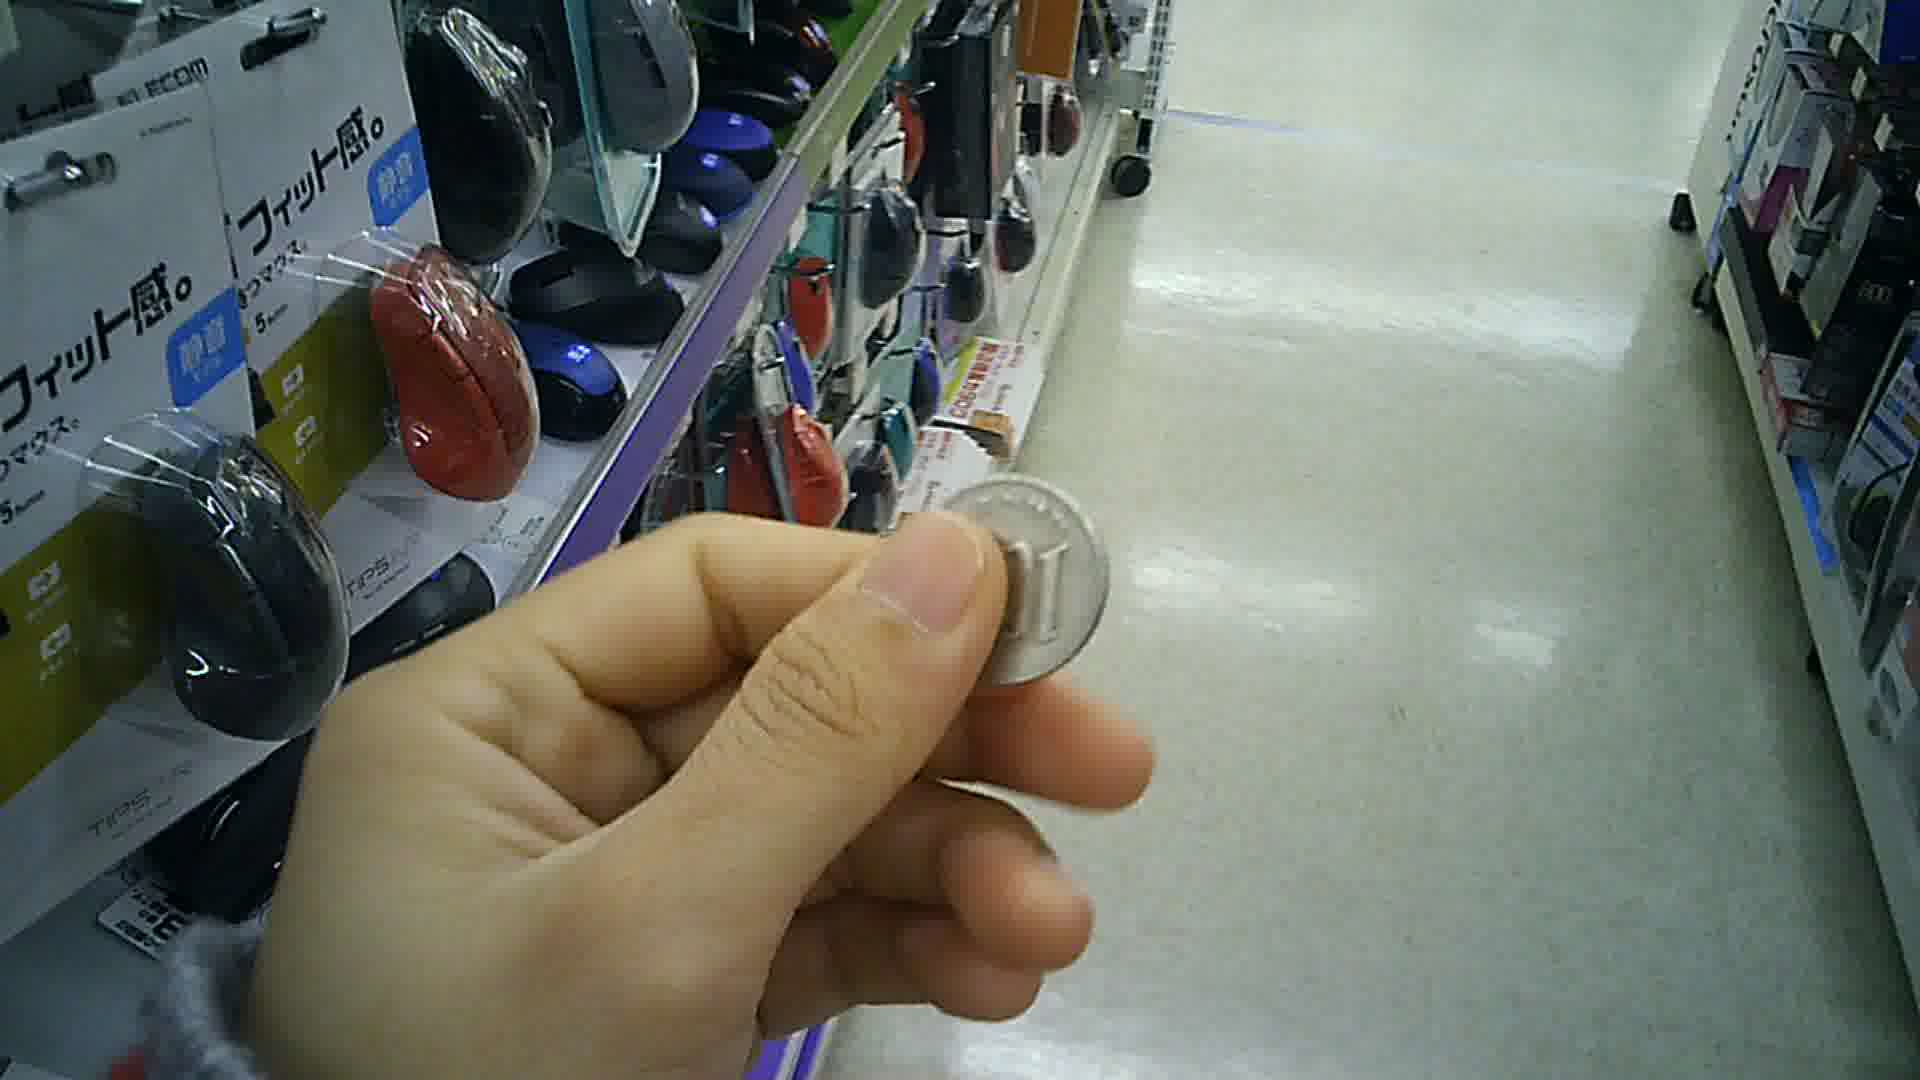100 Yen: (919, 475, 1113, 687)
